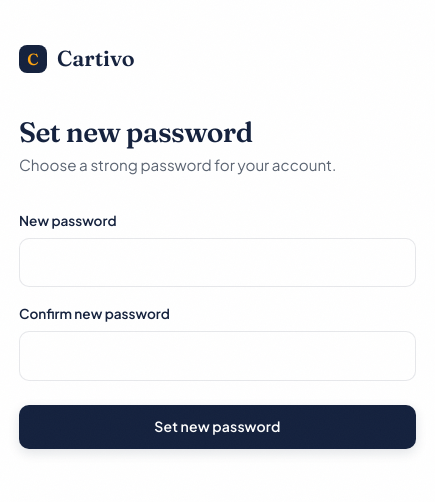
ResetPasswordPage › shows error when passwords do not match
Type "StrongPass1" into the password field labelled "New password" at point(217, 262), box x1=19 y1=238 x2=416 y2=287
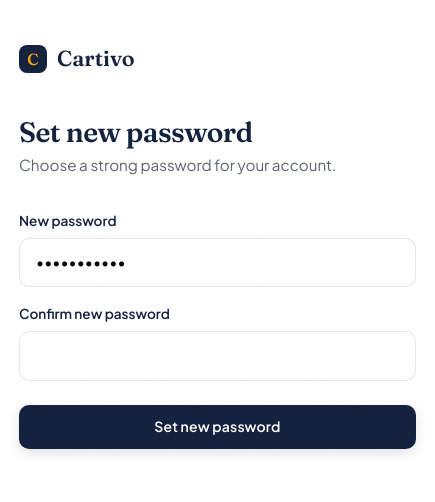
Type "Different1" into the password field labelled "Confirm new password" at point(217, 356), box x1=19 y1=331 x2=416 y2=380
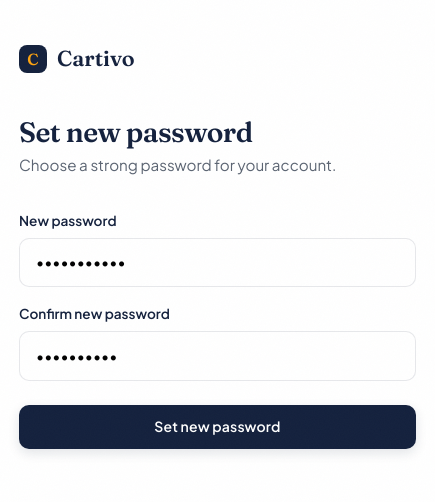
Click the button "Set new password" at point(217, 427), box x1=19 y1=404 x2=416 y2=449
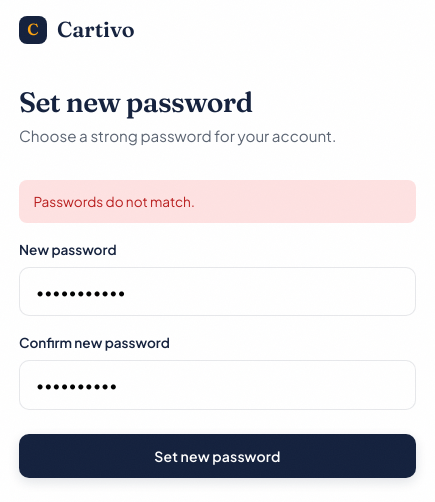
Result: the text "Passwords do not match." is shown at x1=19 y1=180 x2=416 y2=223
